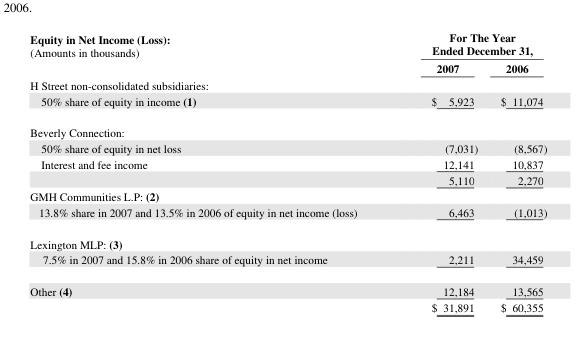table: (29, 29, 546, 314)
table column: (29, 29, 393, 314), (393, 29, 488, 314), (488, 29, 546, 314)
table column header: (29, 29, 546, 76)
table projected row header: (29, 227, 546, 251), (29, 116, 546, 139), (29, 76, 546, 92), (29, 187, 546, 203)
table row: (29, 29, 546, 59), (29, 92, 546, 116), (29, 203, 546, 227), (29, 227, 546, 251), (29, 274, 546, 298), (29, 116, 546, 139), (29, 251, 546, 274), (29, 59, 546, 76), (29, 76, 546, 92), (29, 139, 546, 155), (29, 155, 546, 171), (29, 171, 546, 187), (29, 187, 546, 203), (29, 298, 546, 314)
table spanning cell: (29, 29, 393, 76), (393, 29, 546, 59)
